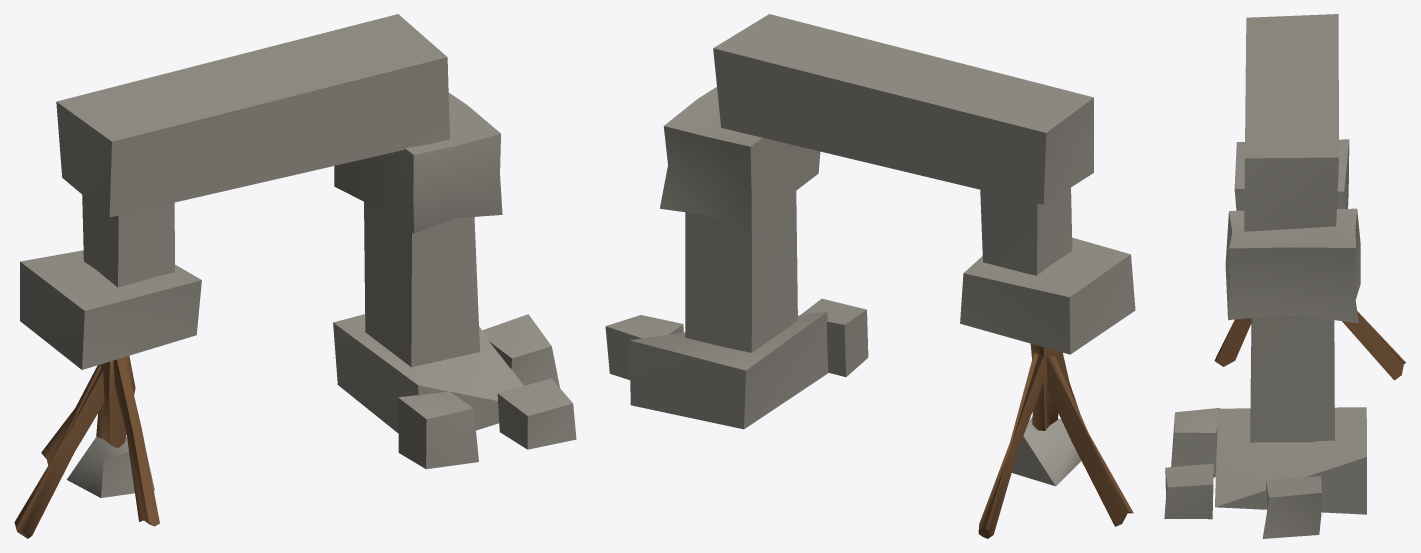
The model's file is fragment_one.fbx.
3 views of the same model, side by side, from view 1: azimuth 30°, elevation 25°; view 2: azimuth 150°, elevation 25°; view 3: azimuth 270°, elevation 25° (orthographic). The views are drawn at different scales.
Parts seen in each view (by area): view 1: fragment_one; view 2: fragment_one; view 3: fragment_one.
Boxes of the visible parts, left/top/right/bottom form: fragment_one: left=14, top=14, right=576, bottom=538; fragment_one: left=605, top=14, right=1135, bottom=538; fragment_one: left=1164, top=14, right=1405, bottom=538.
Bounding box in the file's own units: 363 × 270 × 164.
